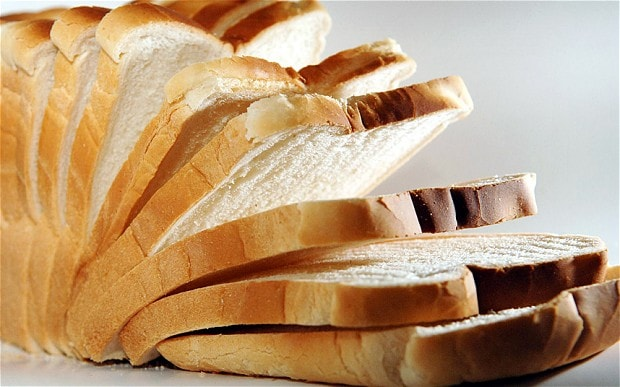slice of bread: (1, 11, 594, 375)
